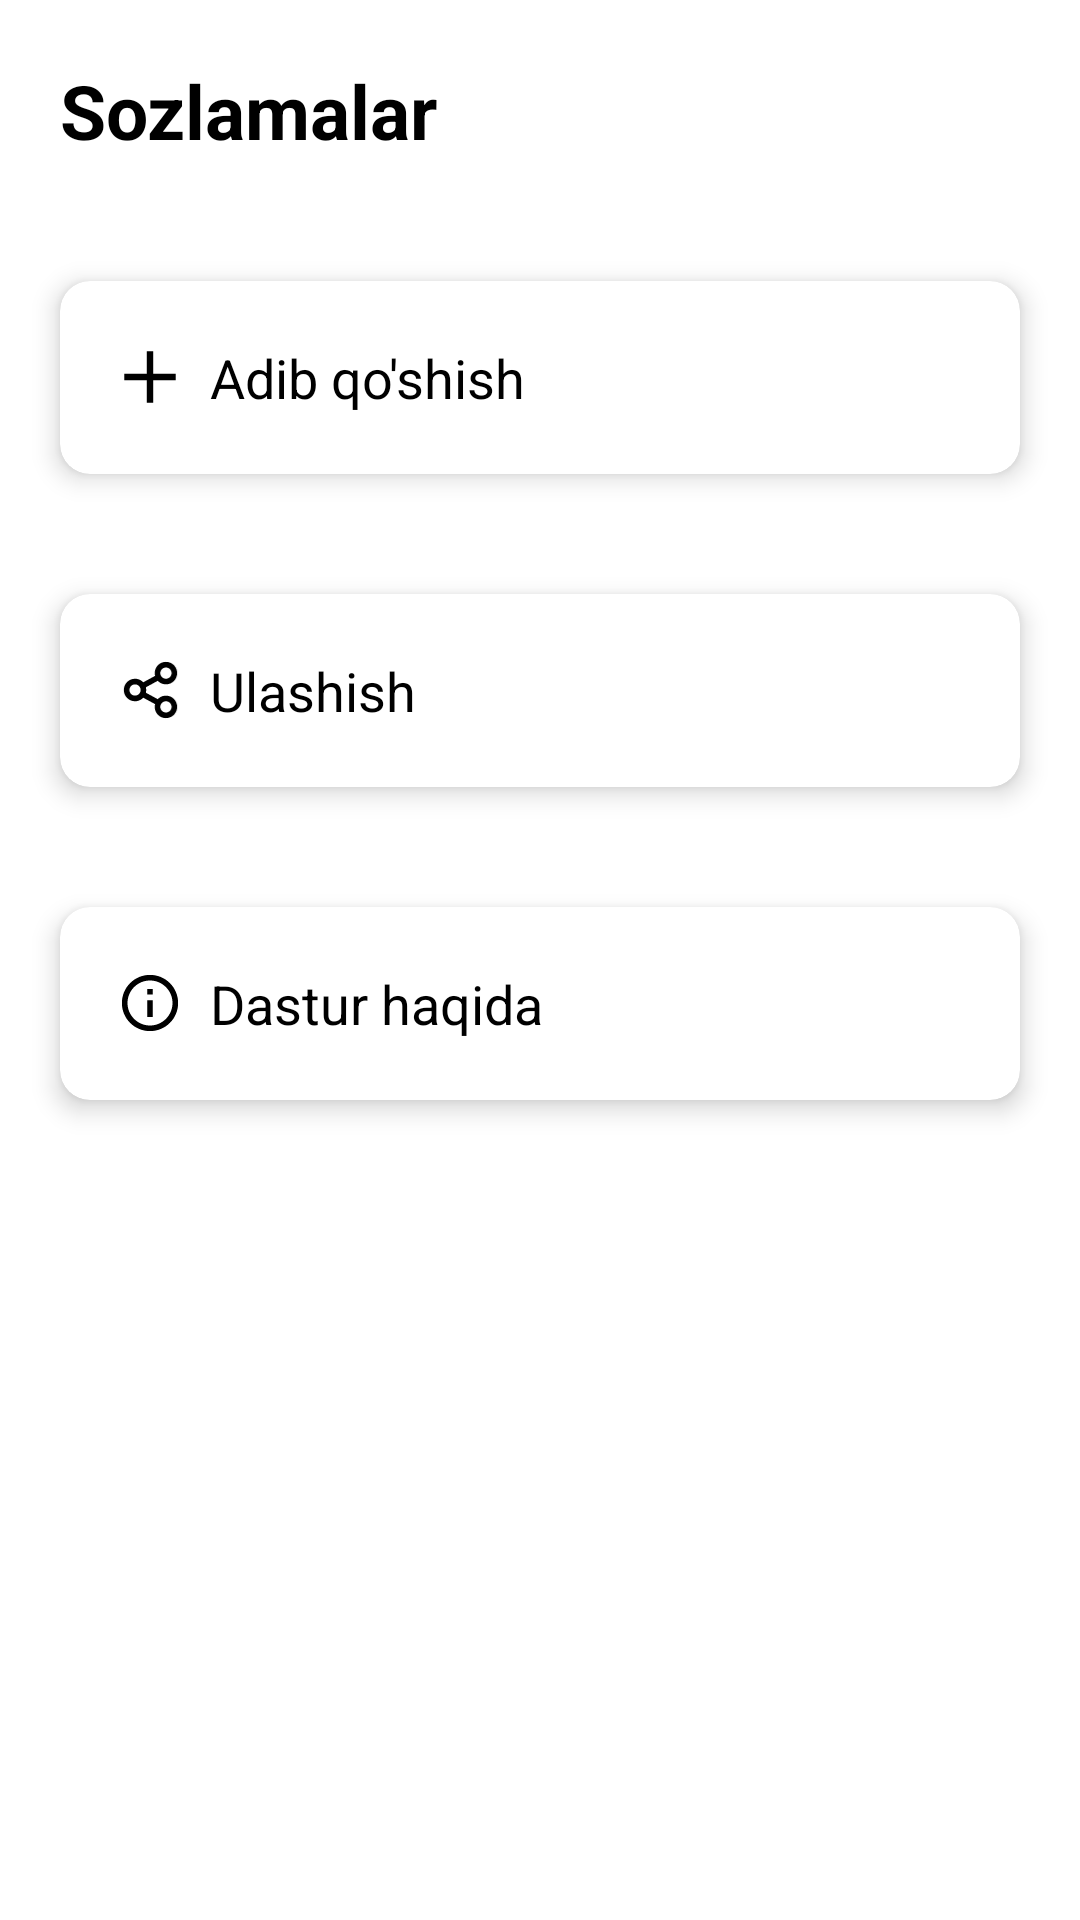

Point at icon controls on the screen. Image size 1080*1920, points as (x,y).
add: (150,377)
info: (150,1003)
share: (150,690)
